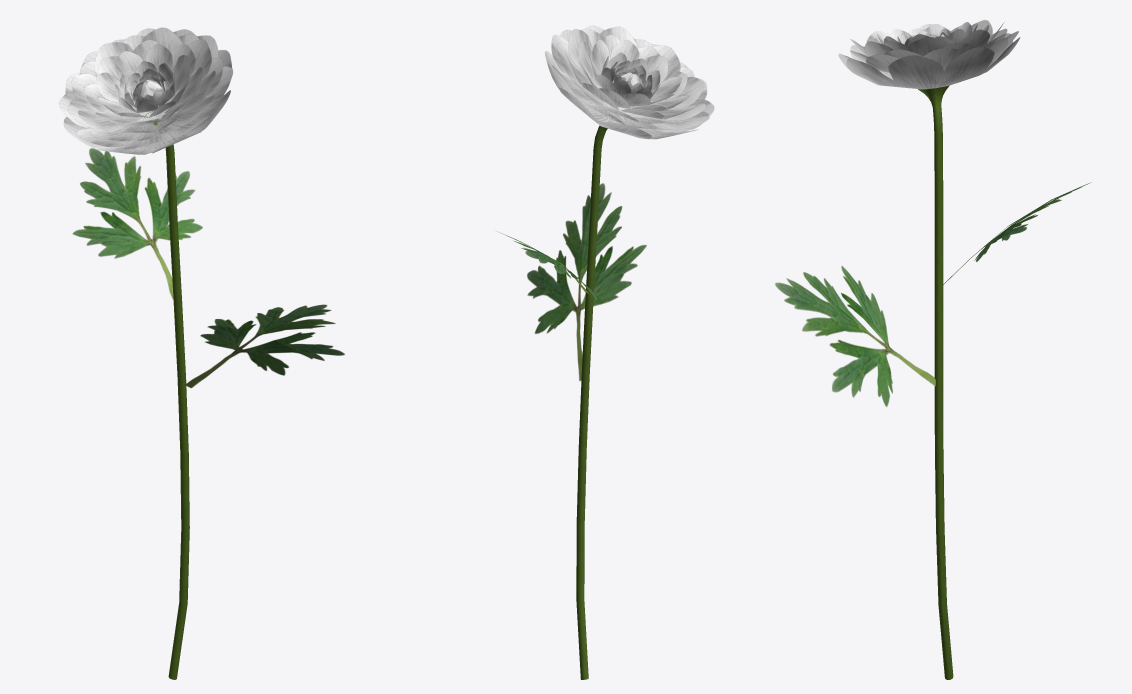
File: flor_branca_2.glb
3 renders of one model, left to right at view 1: azimuth 30°, elevation 25°; view 2: azimuth 150°, elevation 25°; view 3: azimuth 270°, elevation 25°, orthographic. The views are drawn at different scales.
Visible parts, largest first — view 1: Cylinder.008; view 2: Cylinder.008; view 3: Cylinder.008.
Boxes of the visible parts, x1,y1,x2,y2 form: Cylinder.008: [59, 27, 344, 679]; Cylinder.008: [497, 26, 714, 679]; Cylinder.008: [775, 20, 1091, 679].
Bounding box in the file's own units: 0.1711 × 0.3868 × 0.1908.
2 materials, 2 textured.
